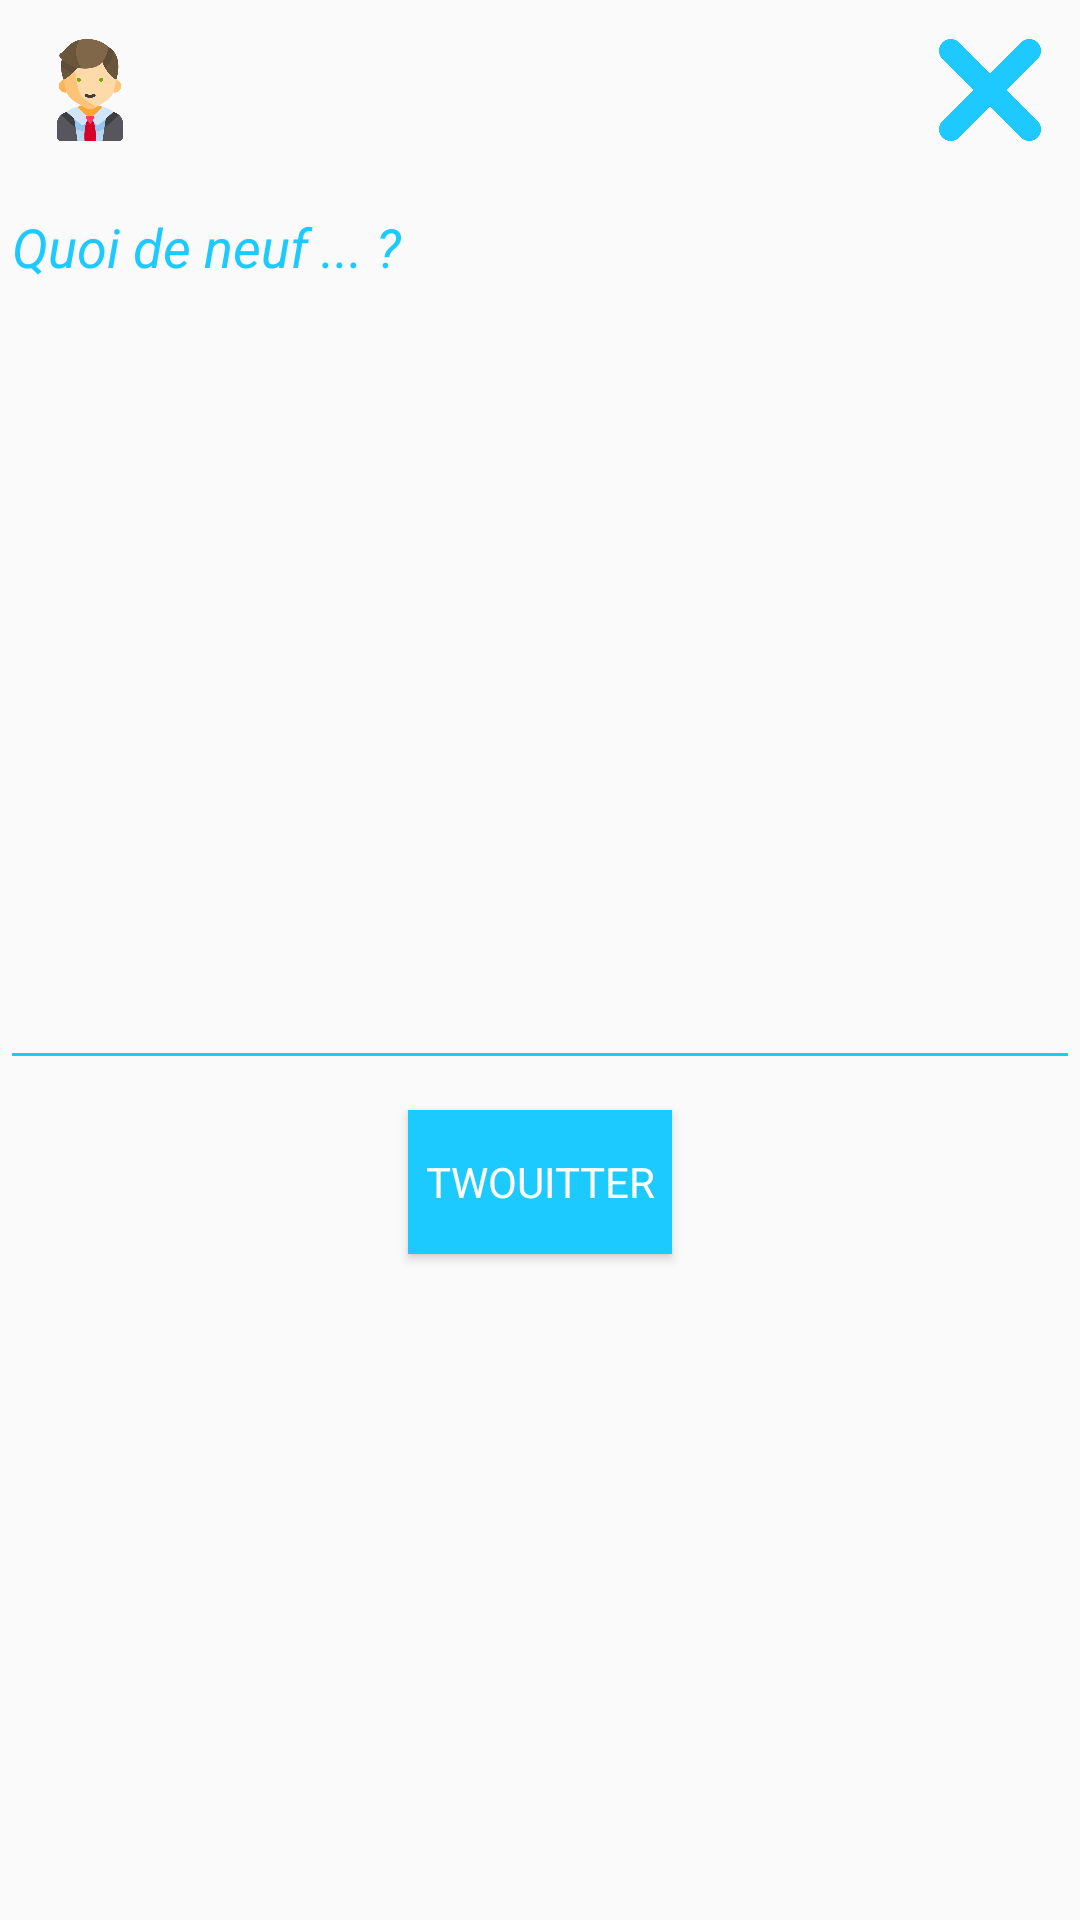

Named icons in this screenshot (1080*1920) and their centers, [x,y]:
twitter delete: [990,90]
